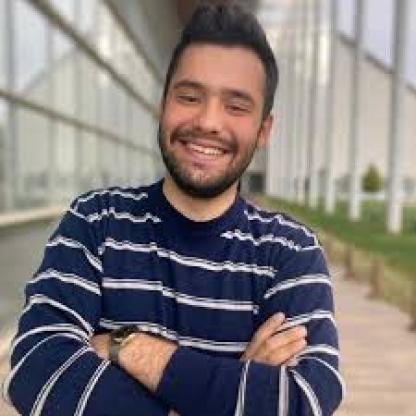person: (158, 4, 281, 202)
